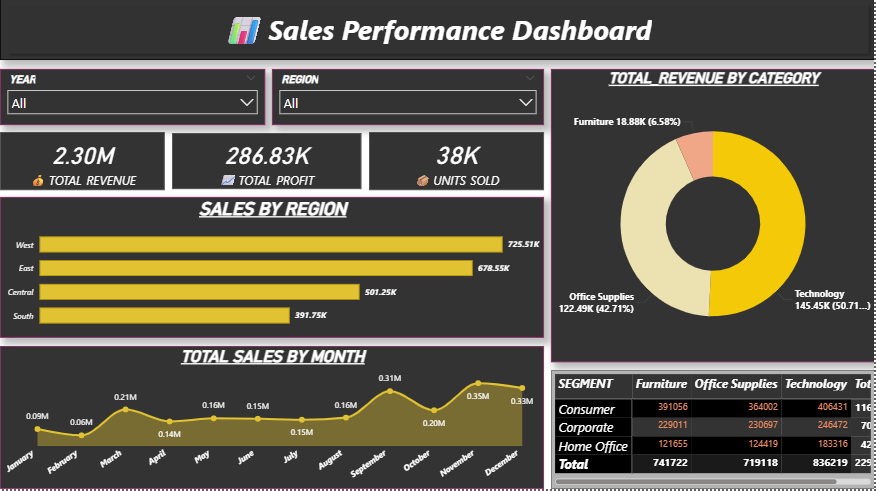

The dashboard page shown, as its layout file describes it:
{"tool":"powerbi","page":{"name":"Page 1","canvas":[1280,720],"ordinal":0},"visuals":[{"type":"shape","box":[0,0,1280.5,92.2],"z":0},{"type":"card","fields":{"Values":["Sum(Sample-Superstore.SALES)"]},"box":[0,197.6,241.5,84.9],"z":1000},{"type":"card","fields":{"Values":["Sum(Sample-Superstore.PROFIT)"]},"box":[251.7,199,276.6,82],"z":2000},{"type":"card","fields":{"Values":["Sum(Sample-Superstore.QUANTITY)"]},"box":[540,197.6,256.1,84.9],"z":3000},{"type":"clusteredBarChart","title":"SALES BY REGION","fields":{"Category":["Sample-Superstore.REGION"],"Y":["Sum(Sample-Superstore.SALES)"]},"box":[0,292.7,796.1,206.3],"z":4000},{"type":"donutChart","title":"TOTAL_REVENUE BY CATEGORY","fields":{"Category":["Sample-Superstore.CATEGORY"],"Y":["Sum(Sample-Superstore.PROFIT)"]},"box":[806.3,105.4,474.1,428.8],"z":5000},{"type":"lineChart","title":"TOTAL SALES BY MONTH","fields":{"Category":["Sample-Superstore.ORDER_DATE.Variation.Date Hierarchy.Month"],"Y":["Sum(Sample-Superstore.SALES)"]},"box":[0,510.7,796.1,209.3],"z":6000},{"type":"pivotTable","fields":{"Rows":["Sample-Superstore.SEGMENT"],"Columns":["Sample-Superstore.CATEGORY"],"Values":["Sum(Sample-Superstore.SALES)"]},"box":[806.3,545.9,474.1,174.1],"z":7000},{"type":"slicer","fields":{"Values":["Sample-Superstore.YEAR"]},"box":[0,105.4,387.8,82],"z":9000},{"type":"slicer","fields":{"Values":["Sample-Superstore.REGION"]},"box":[398,105.4,398,82],"z":10000}]}

Visuals, with their boxes in screenshot pixels (x1, y1, x2, y2), scaled from the page's 1280x720 canvas onto the 877x491 screenshot:
shape: 0 0 876 63
card - Sum(Sample-Superstore.SALES): 0 135 165 193
card - Sum(Sample-Superstore.PROFIT): 172 136 362 192
card - Sum(Sample-Superstore.QUANTITY): 370 135 545 193
"SALES BY REGION" clusteredBarChart: 0 200 545 340
"TOTAL_REVENUE BY CATEGORY" donutChart: 552 72 876 364
"TOTAL SALES BY MONTH" lineChart: 0 348 545 490
pivotTable - Sample-Superstore.SEGMENT x Sample-Superstore.CATEGORY: 552 372 876 490
slicer - Sample-Superstore.YEAR: 0 72 266 128
slicer - Sample-Superstore.REGION: 273 72 545 128
